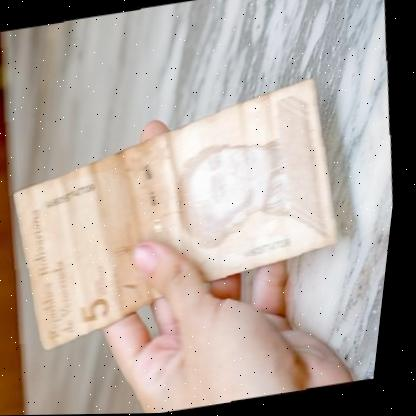five-front-vef: (0, 75, 369, 356)
